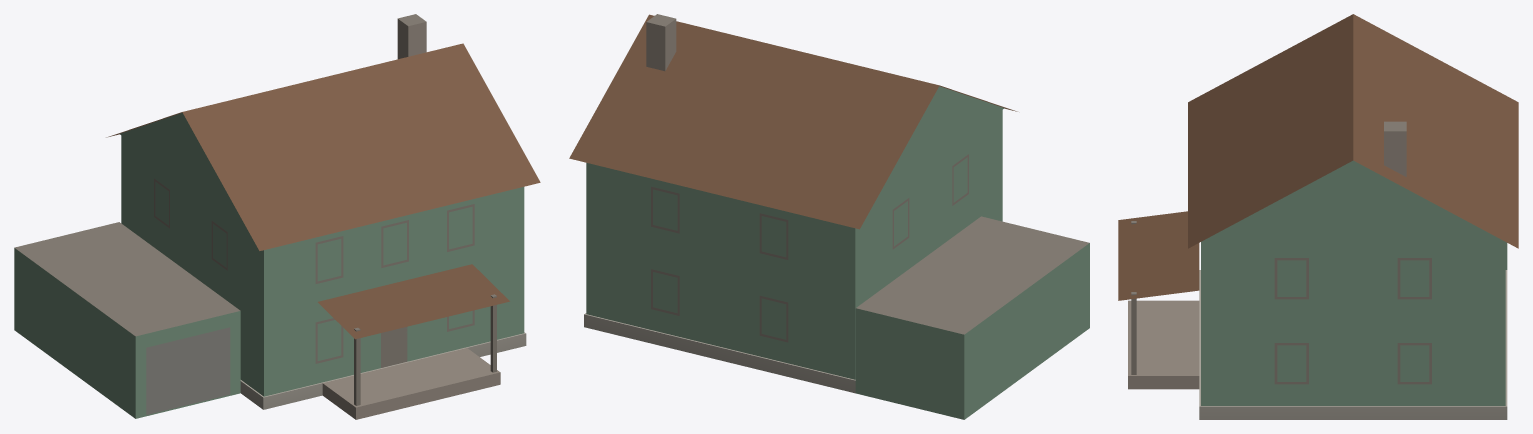
Rendered from house_b.glb.
3 views of the same model, side by side, from view 1: azimuth 30°, elevation 25°; view 2: azimuth 150°, elevation 25°; view 3: azimuth 270°, elevation 25° (orthographic). The views are drawn at different scales.
Visible parts, largest first — view 1: house_b; view 2: house_b; view 3: house_b.
Boxes of the visible parts, bbox=[...] form: house_b: bbox=[14, 14, 540, 419]; house_b: bbox=[569, 14, 1089, 419]; house_b: bbox=[1118, 14, 1518, 419].
Bounding box in the file's own units: 14.35 × 9.6 × 12.35.
